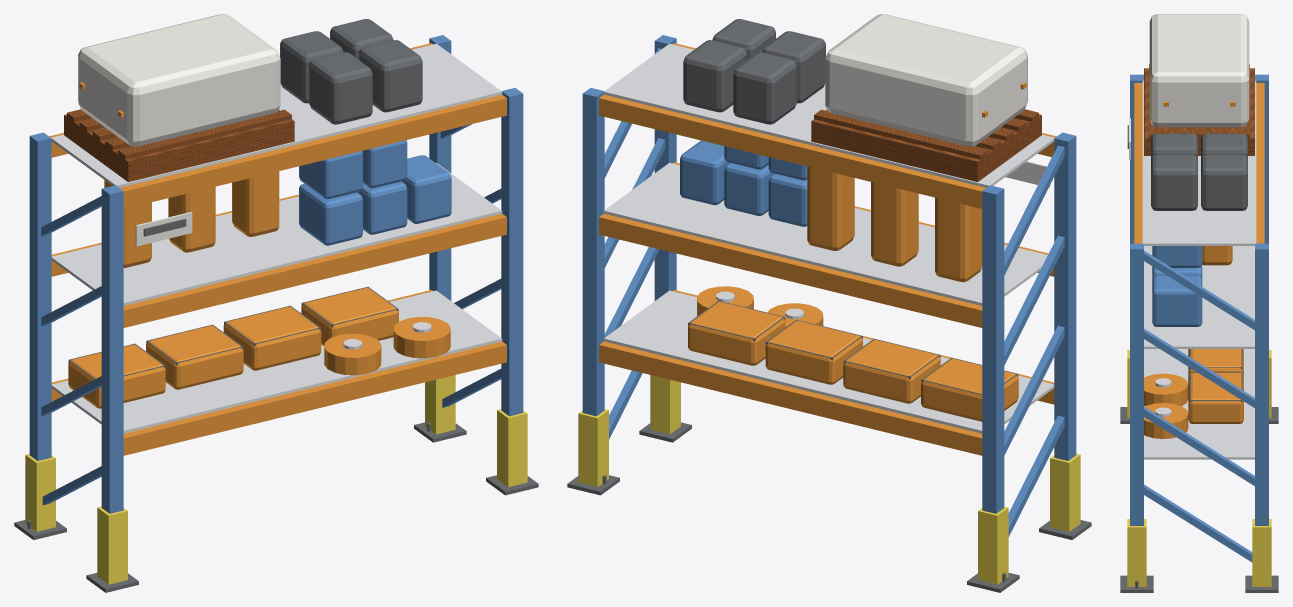
Rendered from tool-hire-depot-and-plant-yard-tool-hire-depot-and-pla-28b1dcb6__35307.glb.
The picture shows the model from 3 angles, left to right: view 1: azimuth 30°, elevation 25°; view 2: azimuth 150°, elevation 25°; view 3: azimuth 270°, elevation 25°; orthographic projection. The views are drawn at different scales.
Parts seen in each view (by area): view 1: tool-hire-depot-and-plant-yard-heavy-duty-racking-bay; view 2: tool-hire-depot-and-plant-yard-heavy-duty-racking-bay; view 3: tool-hire-depot-and-plant-yard-heavy-duty-racking-bay.
Part boxes in pixels (bbox=[...]): tool-hire-depot-and-plant-yard-heavy-duty-racking-bay: bbox=[14, 14, 538, 592]; tool-hire-depot-and-plant-yard-heavy-duty-racking-bay: bbox=[567, 14, 1091, 592]; tool-hire-depot-and-plant-yard-heavy-duty-racking-bay: bbox=[1120, 14, 1278, 592].
Size of the model in its own units: 3.12 by 3.32 by 1.14.
7 materials, 1 textured.
